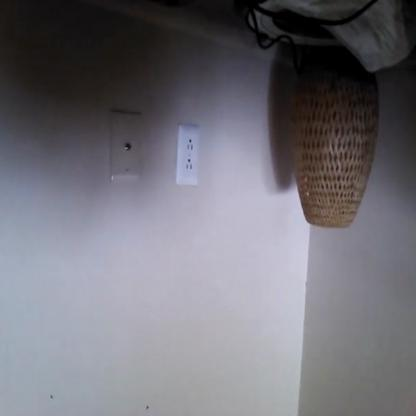OUTLET: (176, 124, 200, 185)
